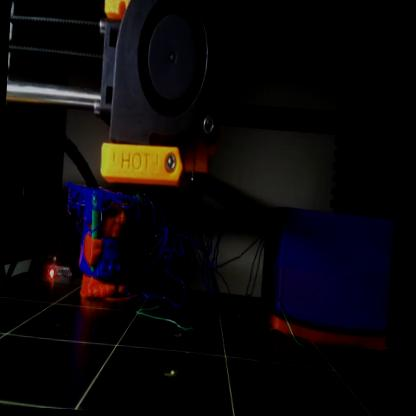fail: (128, 194, 270, 311), (61, 180, 133, 227)
